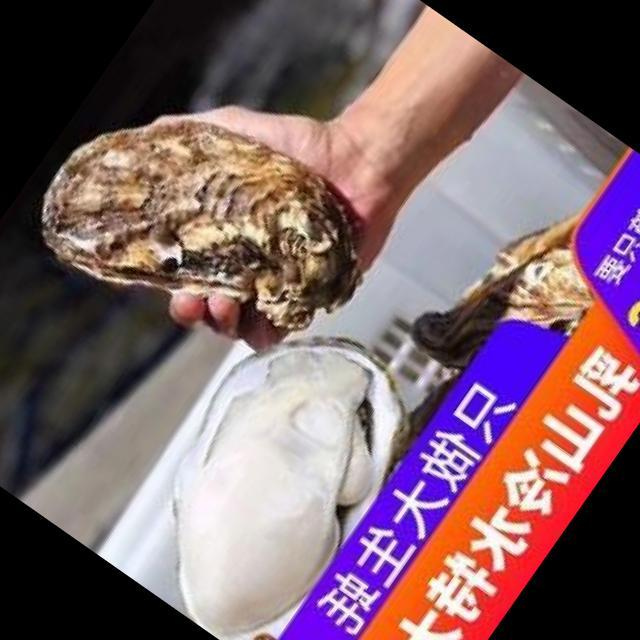Oyster- Indeterminate: (28, 107, 379, 336)
Oyster-Closed: (397, 202, 598, 384)
Oyster-Open: (156, 318, 422, 640)
